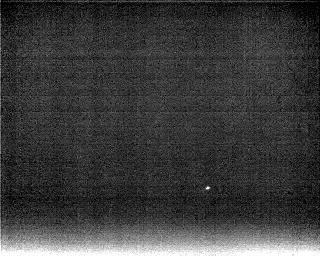BIRD: (203, 183, 212, 194)
